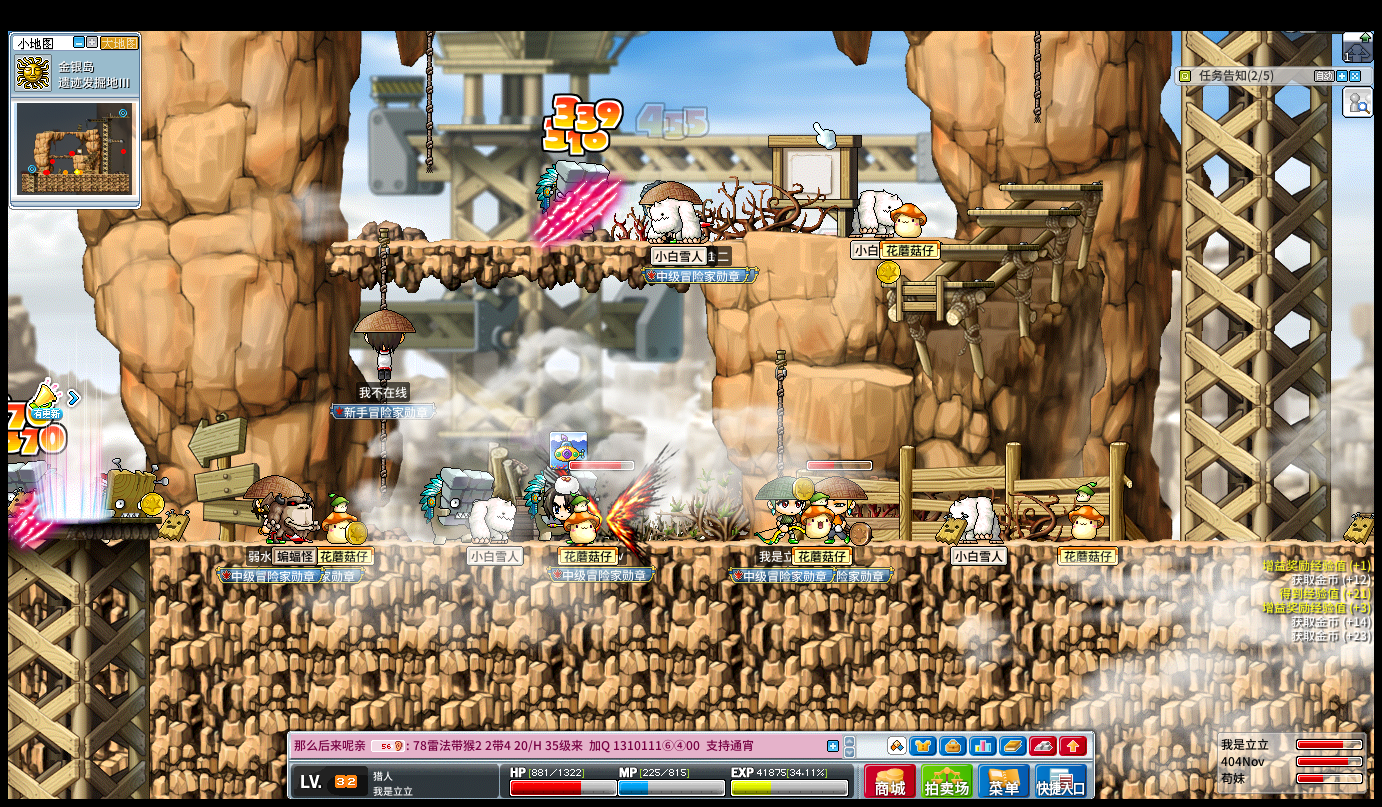floor: (326, 237, 706, 249), (804, 364, 915, 384), (815, 232, 967, 241), (25, 515, 162, 523), (876, 279, 994, 288), (929, 243, 1034, 251), (962, 207, 1075, 214), (999, 184, 1100, 191)
monster: (533, 160, 608, 240), (418, 468, 484, 544), (98, 464, 164, 515), (3, 459, 46, 516)
rope: (772, 350, 785, 477), (424, 30, 434, 165), (1030, 31, 1045, 121), (1027, 30, 1040, 121), (374, 224, 388, 308), (377, 420, 388, 500)
